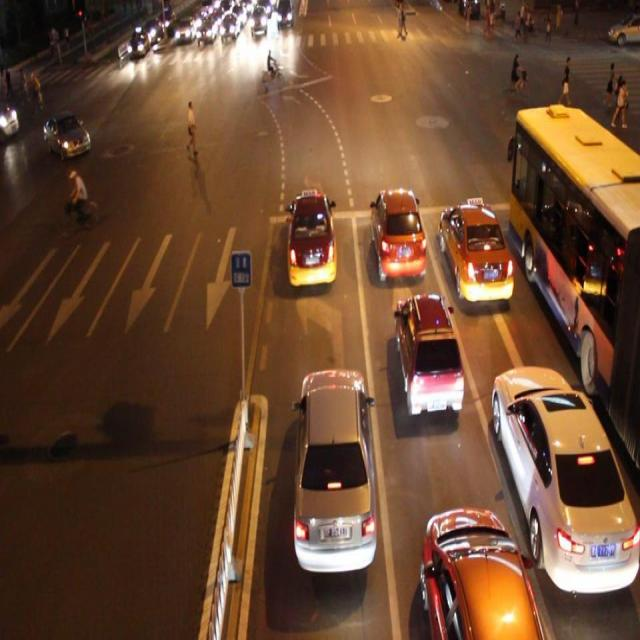BigCar: (506, 103, 640, 357)
car: (494, 364, 640, 591), (293, 372, 382, 569), (414, 501, 538, 640), (392, 296, 467, 421), (440, 194, 515, 302), (281, 183, 340, 284), (370, 192, 428, 279), (44, 114, 91, 158), (123, 23, 148, 61), (196, 10, 218, 47), (172, 18, 194, 42), (218, 17, 240, 39), (251, 9, 267, 38)
